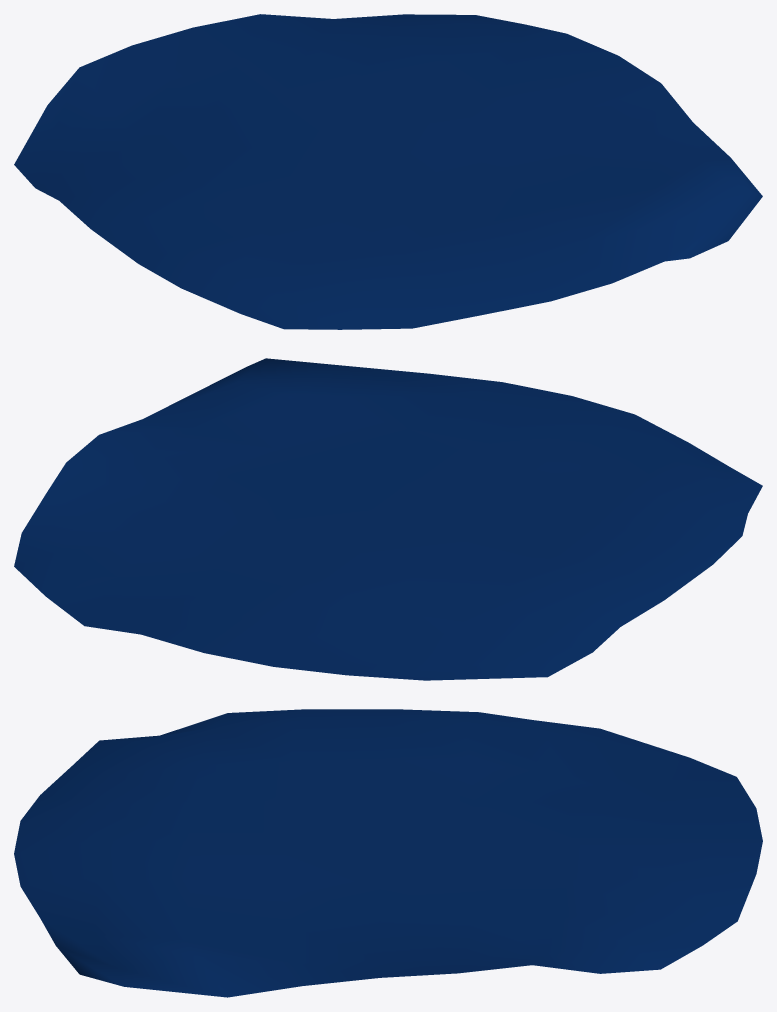
The model's file is Lac_hp.fbx.
3 views of the same model, one above another, from view 1: azimuth 30°, elevation 25°; view 2: azimuth 150°, elevation 25°; view 3: azimuth 270°, elevation 25° (orthographic). The views are drawn at different scales.
Parts seen in each view (by area): view 1: Lac; view 2: Lac; view 3: Lac.
Part boxes in pixels (x1,y1,x2,y2): Lac: (14,14,762,329); Lac: (14,358,762,680); Lac: (14,709,762,997).
Bounding box in the file's own units: 33.09 × 2.02 × 36.61.
